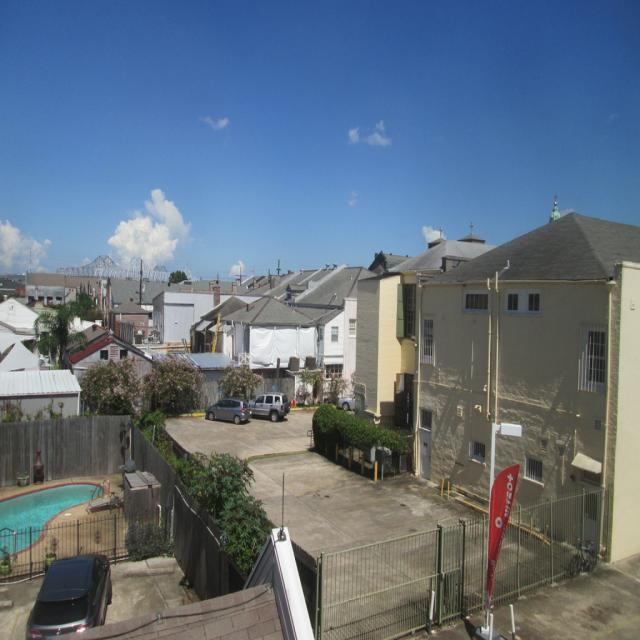car: (208, 398, 249, 419)
